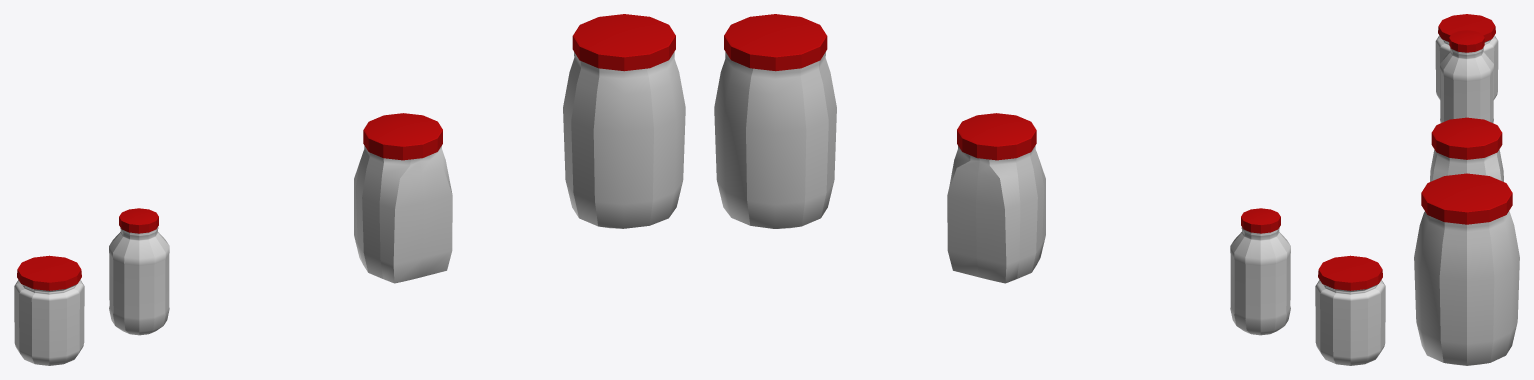
Rendered from uploads_files_2430948_all.fbx.
3 views of the same model, side by side, from view 1: azimuth 30°, elevation 25°; view 2: azimuth 150°, elevation 25°; view 3: azimuth 270°, elevation 25° (orthographic). The views are drawn at different scales.
Parts seen in each view (by area): view 1: polySurface1, honey_002_pCylinder1, pCylinder3, pCylinder1, polySurface2, honey_002_pCylinder2, pCylinder2, pCylinder4; view 2: polySurface1, honey_002_pCylinder1, pCylinder3, pCylinder1, polySurface2, honey_002_pCylinder2, pCylinder2, pCylinder4; view 3: polySurface1, polySurface2, pCylinder3, honey_002_pCylinder2, honey_002_pCylinder1, pCylinder2, pCylinder1, pCylinder4.
Boxes of the visible parts, box(x1,y1,x2,y2) form: polySurface1: box(563, 52, 685, 228); honey_002_pCylinder1: box(354, 145, 452, 283); pCylinder3: box(109, 227, 169, 335); pCylinder1: box(14, 280, 84, 365); polySurface2: box(572, 14, 675, 71); honey_002_pCylinder2: box(363, 113, 442, 160); pCylinder2: box(17, 255, 81, 290); pCylinder4: box(119, 208, 158, 233); polySurface1: box(714, 52, 836, 228); honey_002_pCylinder1: box(947, 145, 1045, 283); pCylinder3: box(1230, 227, 1290, 335); pCylinder1: box(1315, 280, 1385, 365); polySurface2: box(724, 14, 827, 71); honey_002_pCylinder2: box(957, 113, 1036, 160); pCylinder2: box(1318, 255, 1382, 290); pCylinder4: box(1241, 208, 1280, 233); polySurface1: box(1414, 211, 1519, 365); polySurface2: box(1421, 173, 1512, 224); pCylinder3: box(1440, 47, 1493, 122); honey_002_pCylinder2: box(1431, 117, 1502, 159); honey_002_pCylinder1: box(1430, 150, 1503, 181); pCylinder2: box(1438, 14, 1495, 41); pCylinder1: box(1435, 35, 1498, 99); pCylinder4: box(1449, 30, 1484, 52).
Size of what is drawn, in the model's own units: 24.65 by 6.64 by 3.85.
